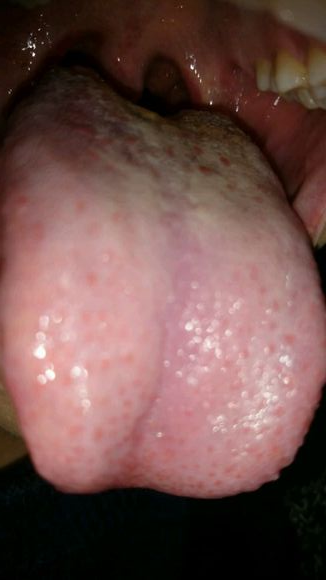hongdianshe: (217, 151, 231, 169)
huangtaishe: (4, 68, 325, 497)
